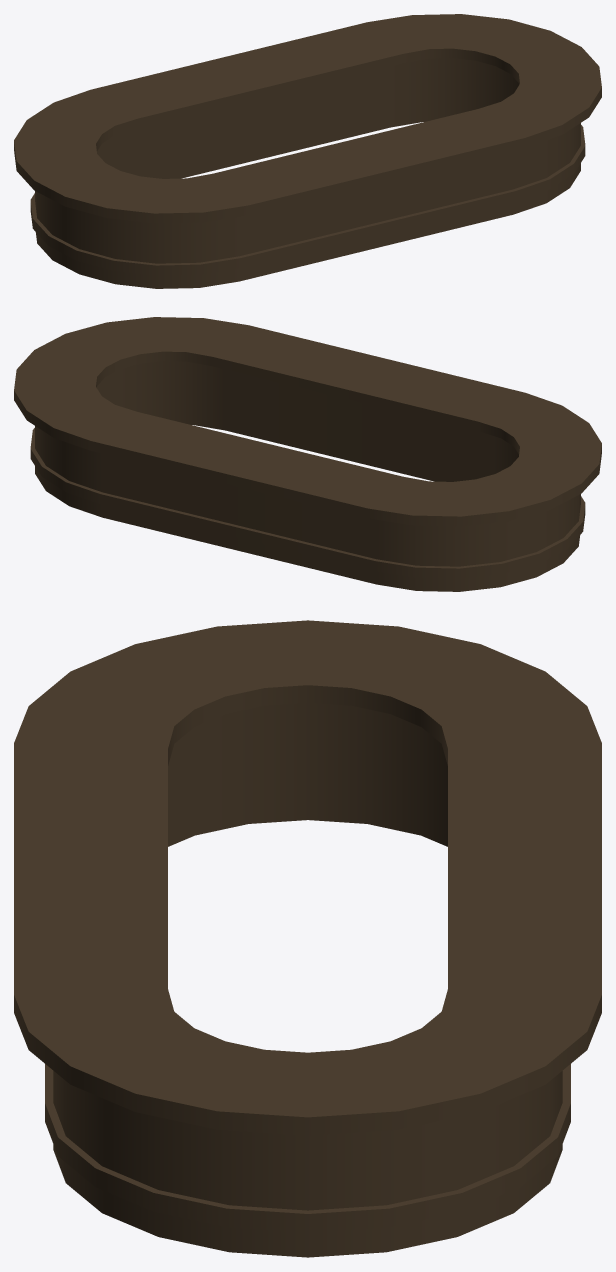
File: SM_Bar_Center.fbx
3 views of the same model, one above another, from view 1: azimuth 30°, elevation 25°; view 2: azimuth 150°, elevation 25°; view 3: azimuth 270°, elevation 25° (orthographic). The views are drawn at different scales.
Parts seen in each view (by area): view 1: GEO_Bar_Center; view 2: GEO_Bar_Center; view 3: GEO_Bar_Center.
Part boxes in pixels (bbox=[...]): GEO_Bar_Center: bbox=[14, 14, 601, 288]; GEO_Bar_Center: bbox=[14, 317, 601, 591]; GEO_Bar_Center: bbox=[14, 620, 601, 1257].
Size of the model in its own units: 679 by 99.78 by 339.
